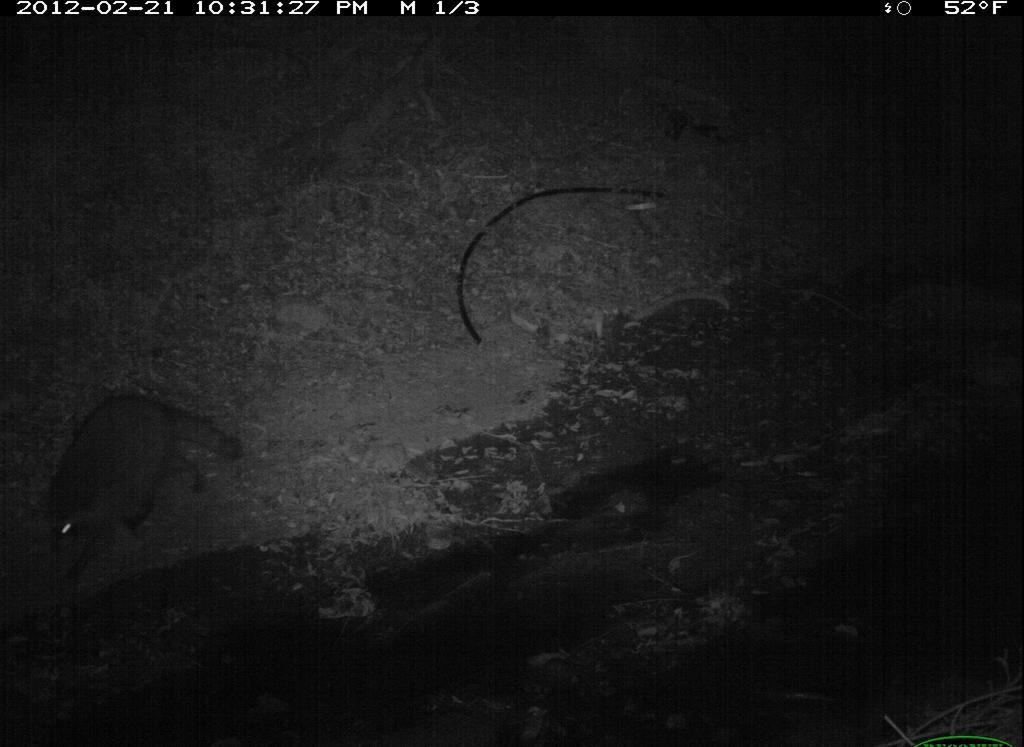raccoon: (36, 382, 250, 596)
